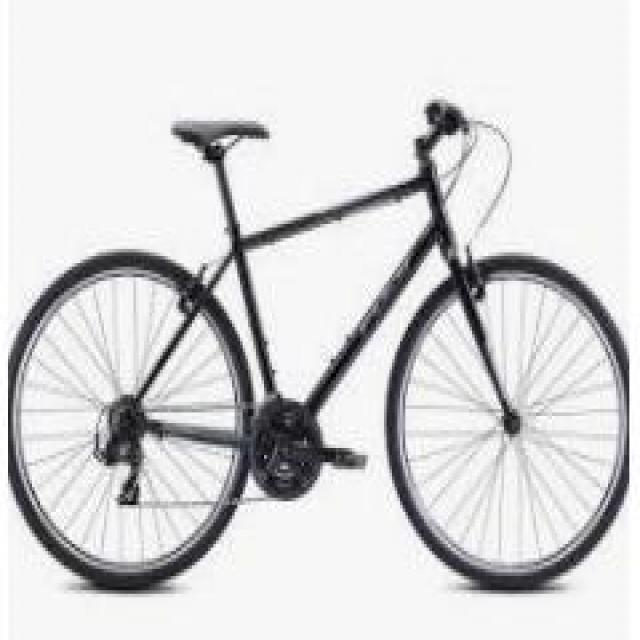bicycle: (23, 90, 639, 606)
